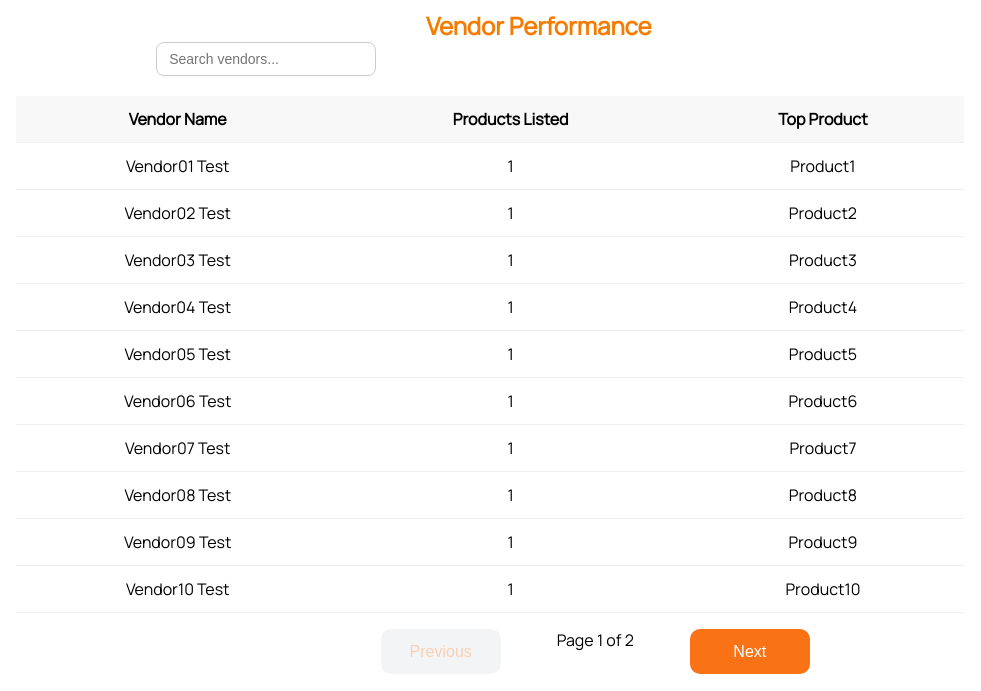
VendorPerformance › handles pagination controls correctly
Check: the text "Vendor01 Test" is shown, box [16,142,339,190]
Check: the text "Vendor10 Test" is shown, box [16,566,339,612]
Click the button "Next": click(750, 652) [690,629,810,674]
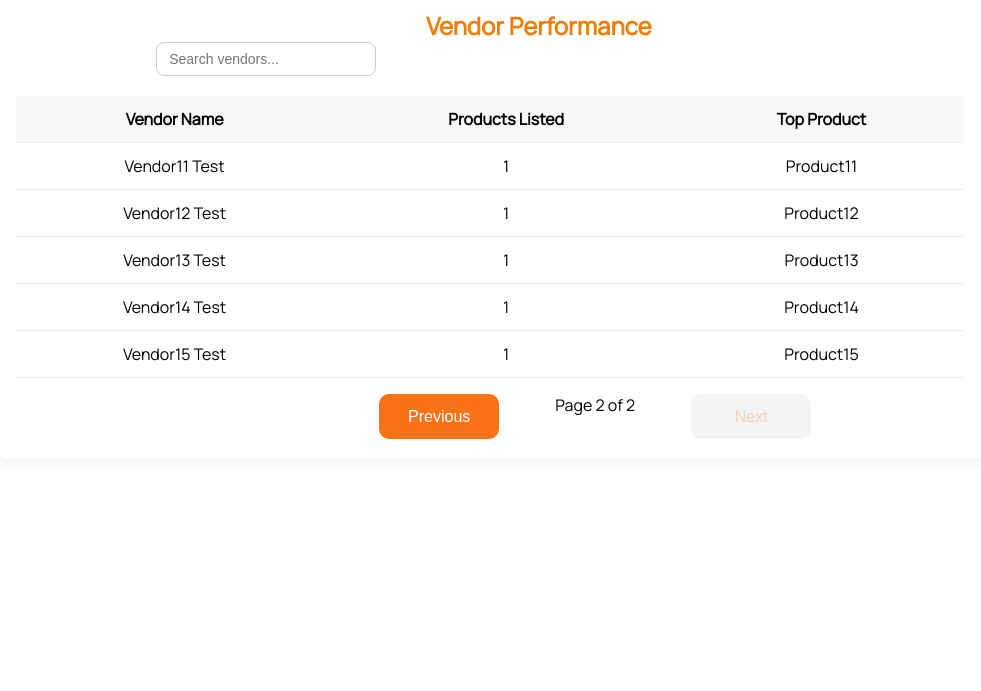
Check: the text "Vendor11 Test" is shown, box [16,142,333,190]
Check: the text "Vendor15 Test" is shown, box [16,330,333,378]
Check: the text "Vendor01 Test" is gone
Click the button "Previous": click(439, 416) [379,394,499,439]
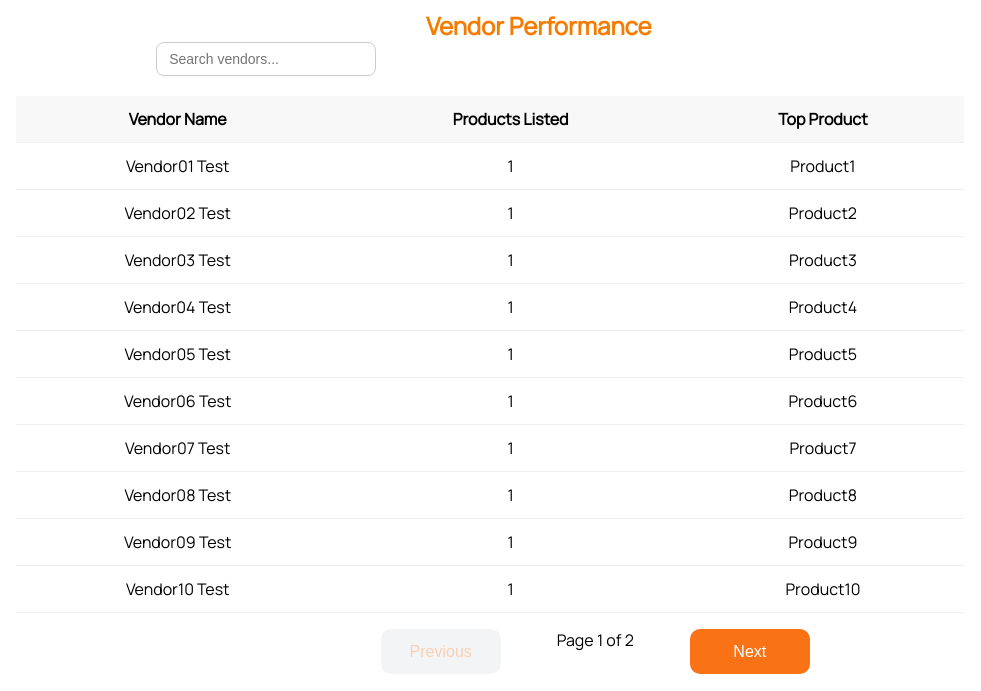
Check: the text "Vendor01 Test" is shown, box [16,142,339,190]
Check: the text "Vendor11 Test" is gone
